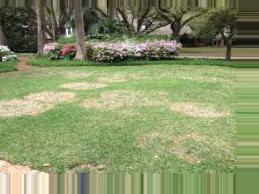patch: (97, 95, 150, 107), (10, 99, 41, 112), (183, 105, 216, 116), (68, 84, 99, 88)
